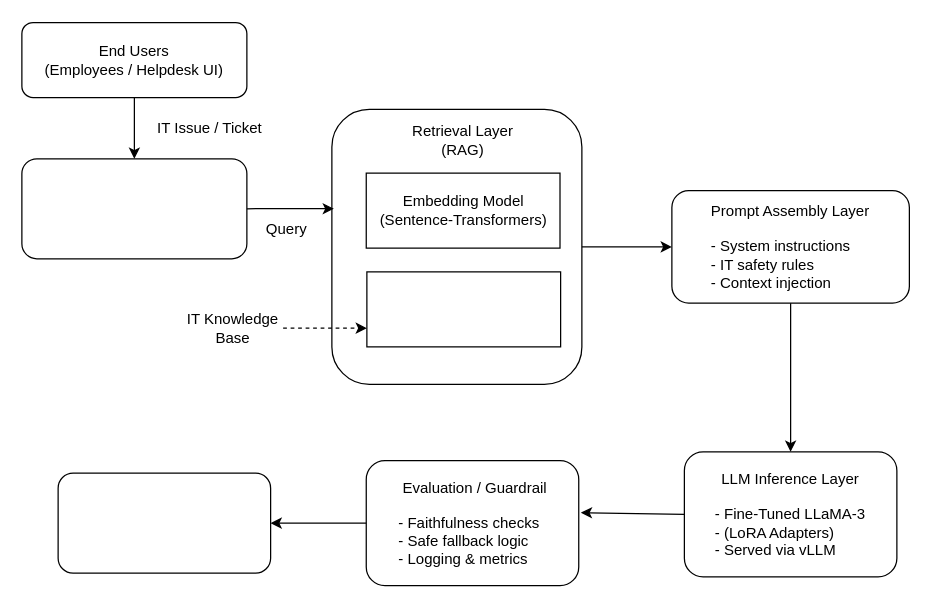
The diagram is 931 pixels wide and 608 high, and some of its shapes have lost their labels. The shapes that lost their labels are listed below. From the top down, each one's centre as x and y in pixels, then its label:
At [134,208]: "API Layer FastAPI - Validation - Auth (optional) │ - Request orchestration".
At [463,309]: "Vector DB (FAISS) SOPs / KB / Guides".
At [164,522]: "User / Ticket System (Helpdesk / Chat / API)".
